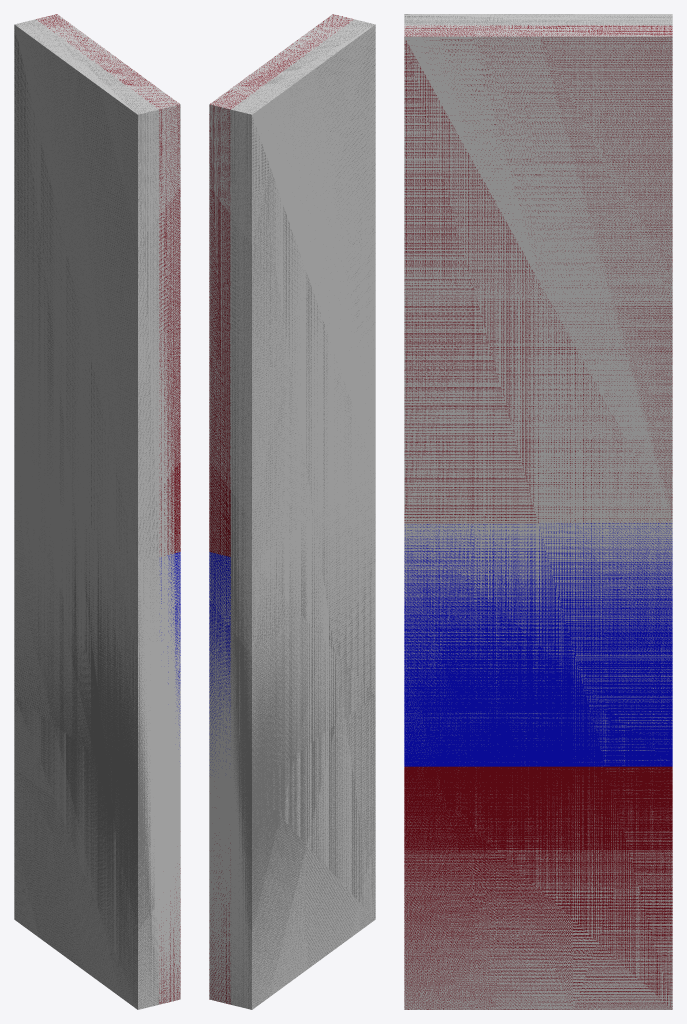
The model's file is single_wall_1.glb.
3 views of the same model, side by side, from view 1: azimuth 30°, elevation 25°; view 2: azimuth 150°, elevation 25°; view 3: azimuth 270°, elevation 25° (orthographic). The views are drawn at different scales.
Visible parts, largest first — view 1: single_wall_physics_col, single_wall; view 2: single_wall_physics_col, single_wall; view 3: single_wall_physics_col, single_wall.
Boxes of the visible parts, left/top/right/bottom form: single_wall_physics_col: left=14, top=14, right=180, bottom=1009; single_wall: left=14, top=14, right=180, bottom=1008; single_wall_physics_col: left=209, top=14, right=375, bottom=1009; single_wall: left=209, top=14, right=375, bottom=1009; single_wall_physics_col: left=404, top=14, right=672, bottom=1009; single_wall: left=404, top=14, right=672, bottom=1009.
Size of the model in its own units: 0.1 by 2 by 0.5.
